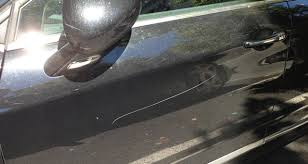scratch: (107, 68, 229, 129)
